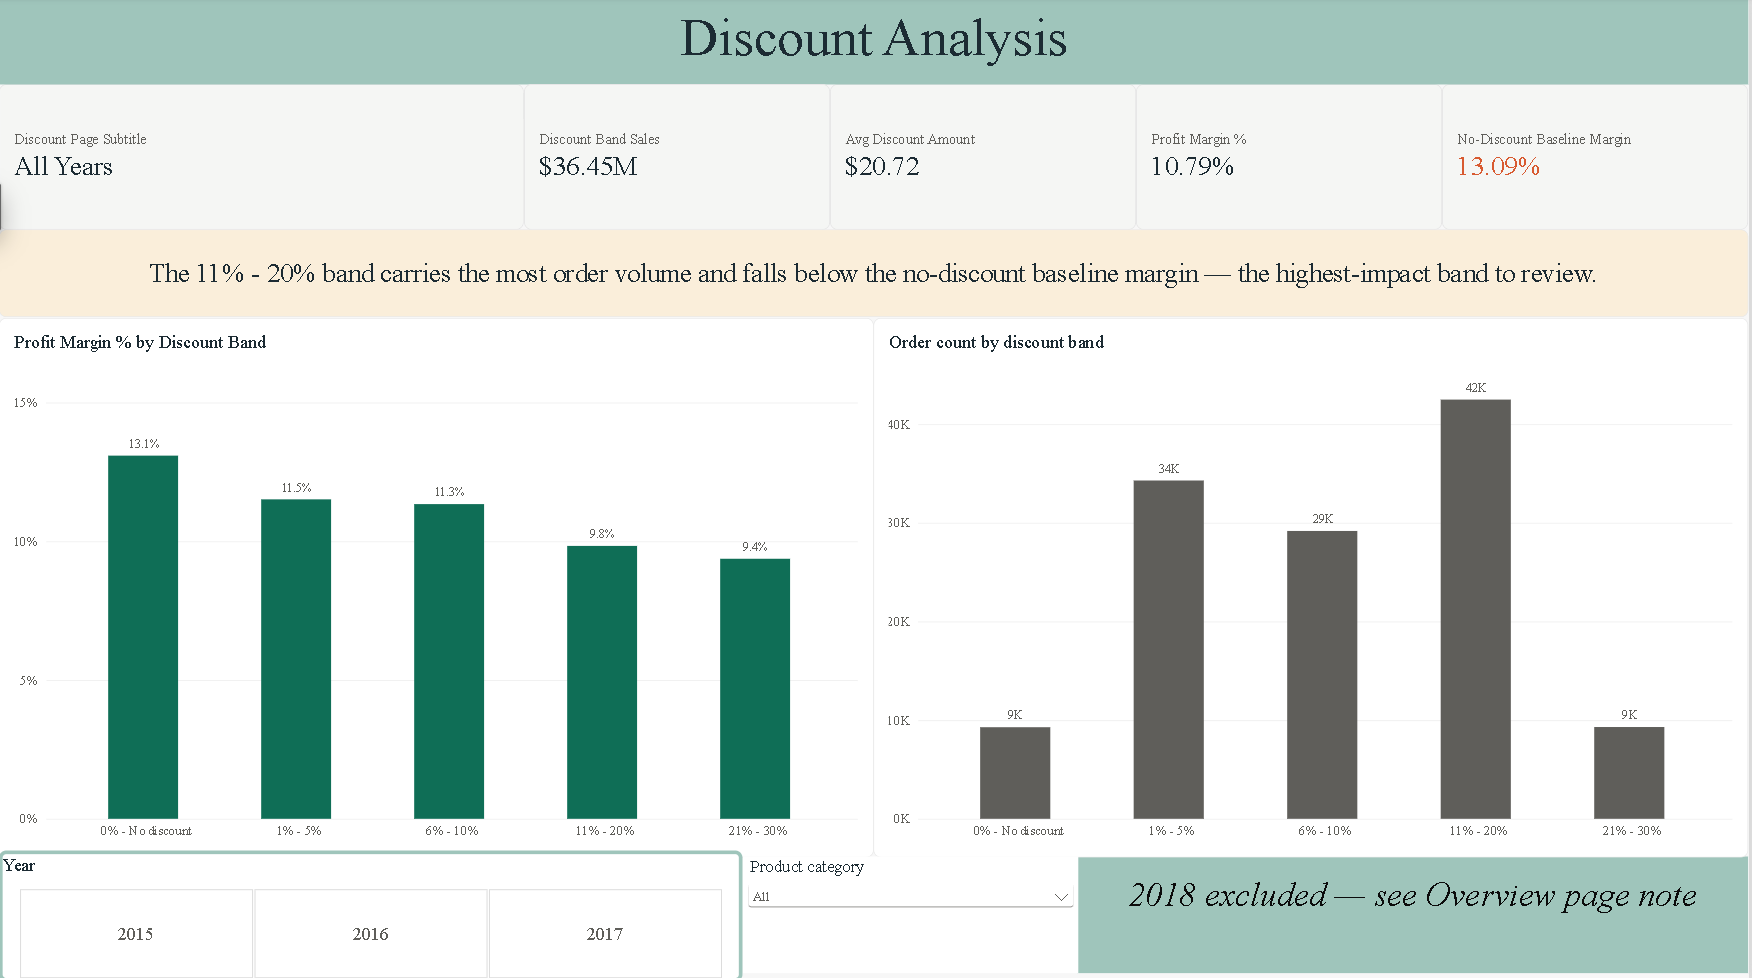

The page's visual inventory and layout, read from the dashboard file:
{"tool":"powerbi","page":{"name":"Discount Analysis","canvas":[1920,1080],"ordinal":1},"visuals":[{"type":"cardVisual","fields":{"Data":["_Measures.Avg Discount Amount"]},"box":[912,96,336,160],"z":0},{"type":"cardVisual","fields":{"Data":["_Measures.Profit Margin %"]},"box":[1248,96,336,160],"z":1000},{"type":"cardVisual","fields":{"Data":["_Measures.No Discount Baseline %"]},"box":[1584,96,336,160],"z":2000},{"type":"clusteredColumnChart","title":"Profit Margin % by Discount Band","fields":{"Category":["reports vw_discount_impact.discount_band"],"Y":["_Measures.Discount Band Margin %"]},"box":[0,352,960,592],"z":3000},{"type":"cardVisual","fields":{"Data":["_Measures.Discount Page Subtitle"]},"box":[0,96,576,160],"z":4000},{"type":"textbox","box":[0,0,1920,96],"z":5000},{"type":"slicer","title":"Year","fields":{"Values":["gold dim_date.year"]},"box":[0,936,816,144],"z":6000},{"type":"textbox","box":[1184,944,736,128],"z":7000},{"type":"clusteredColumnChart","title":"Order count by discount band","fields":{"Category":["reports vw_discount_impact.discount_band"],"Y":["_Measures.Discount Band Order Count"]},"box":[960,352,960,592],"z":8000},{"type":"card","fields":{"Values":["_Measures.Discount Volume Alert"]},"box":[0,256,1920,96],"z":9000},{"type":"cardVisual","fields":{"Data":["_Measures.Discount Band Sales"]},"box":[576,96,336,160],"z":10000},{"type":"slicer","fields":{"Values":["gold dim_product.category_name"]},"box":[816,944,368,128],"z":10001}]}

Visuals, with their boxes in screenshot pixels (x1, y1, x2, y2), scaled from the page's 1920x1080 canvas onto the 1752x978 screenshot:
cardVisual - _Measures.Avg Discount Amount: 832,87,1139,232
cardVisual - _Measures.Profit Margin %: 1139,87,1445,232
cardVisual - _Measures.No Discount Baseline %: 1445,87,1751,232
"Profit Margin % by Discount Band" clusteredColumnChart: 0,319,876,855
cardVisual - _Measures.Discount Page Subtitle: 0,87,526,232
textbox: 0,0,1751,87
"Year" slicer: 0,848,745,977
textbox: 1080,855,1751,971
"Order count by discount band" clusteredColumnChart: 876,319,1751,855
card - _Measures.Discount Volume Alert: 0,232,1751,319
cardVisual - _Measures.Discount Band Sales: 526,87,832,232
slicer - gold dim_product.category_name: 745,855,1080,971
